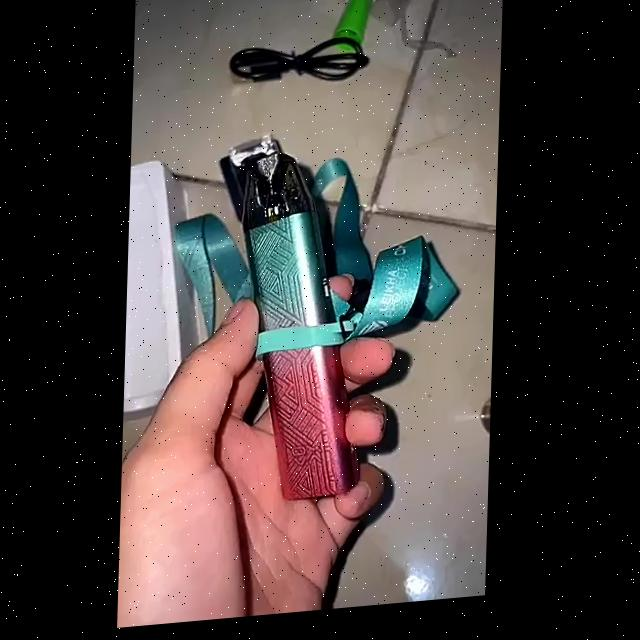vape: (234, 152, 368, 512)
